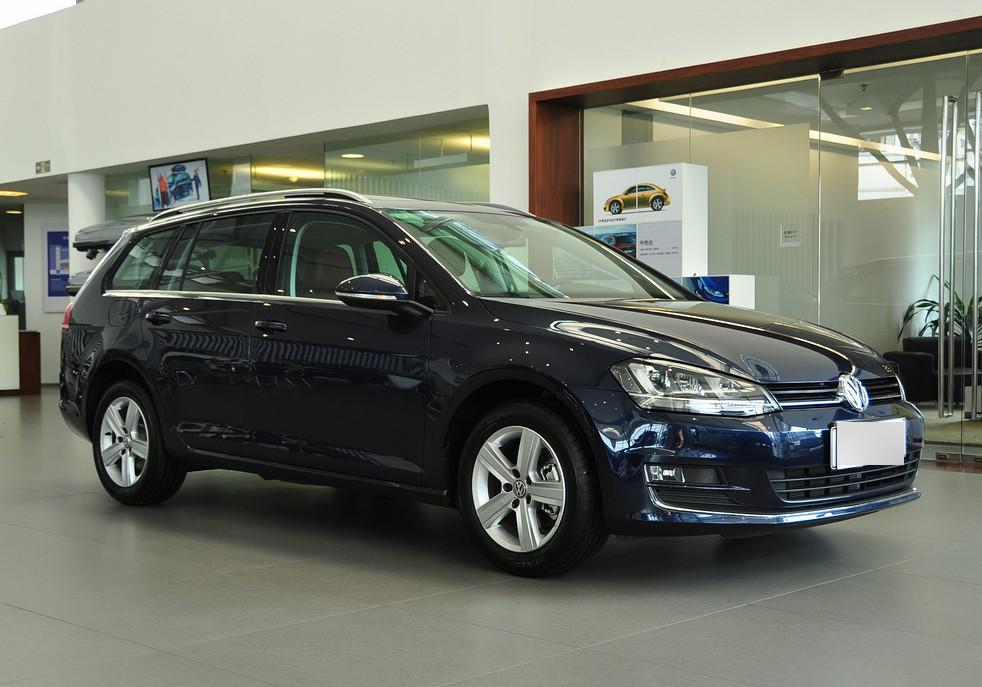Wagon: (60, 187, 923, 577)
